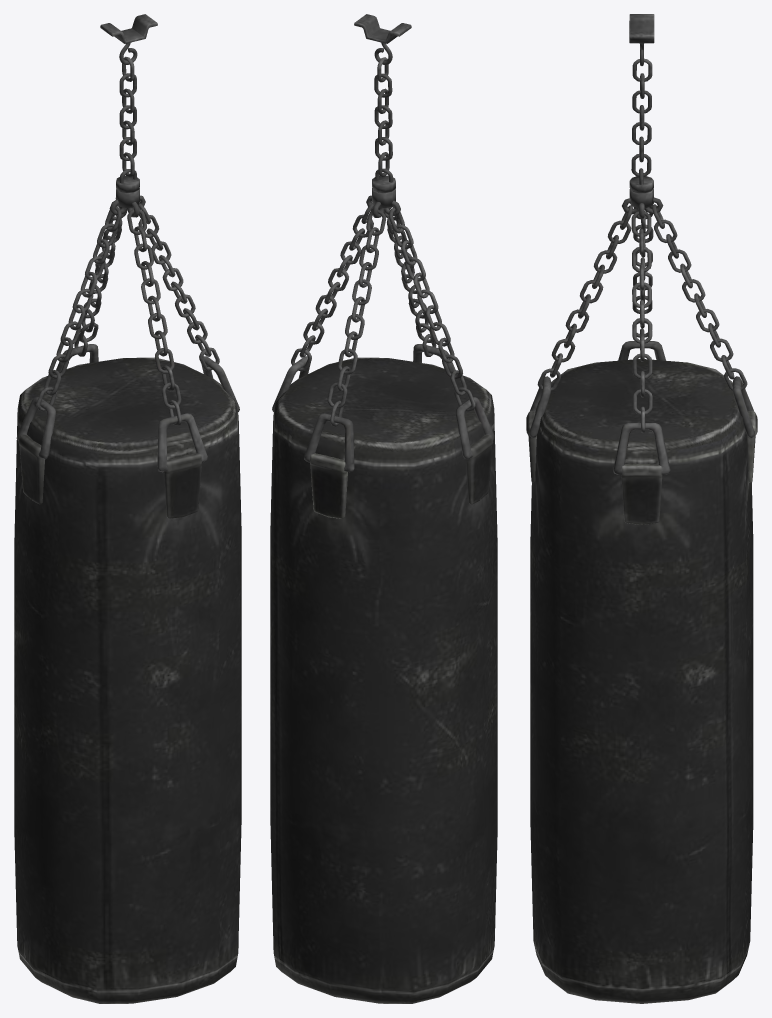
The model's file is sacco.glb.
The picture shows the model from 3 angles, left to right: view 1: azimuth 30°, elevation 25°; view 2: azimuth 150°, elevation 25°; view 3: azimuth 270°, elevation 25°; orthographic projection.
Size of the model in its own units: 0.5383 by 2.37 by 0.5305.
Materials: 1 (1 with a texture image).
